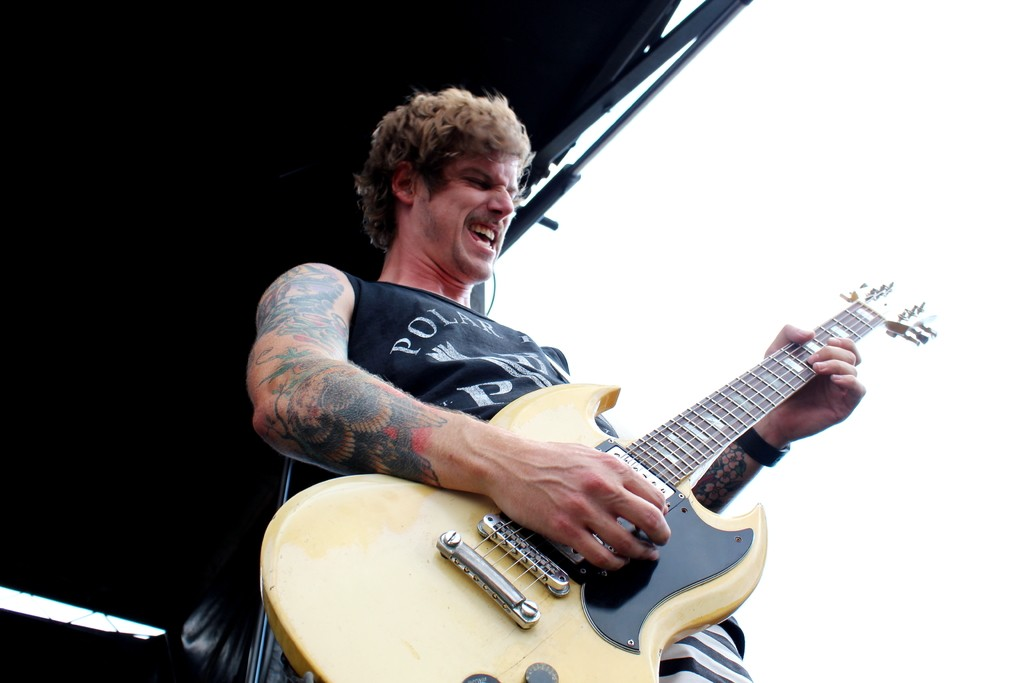guitar: (261, 281, 938, 683)
